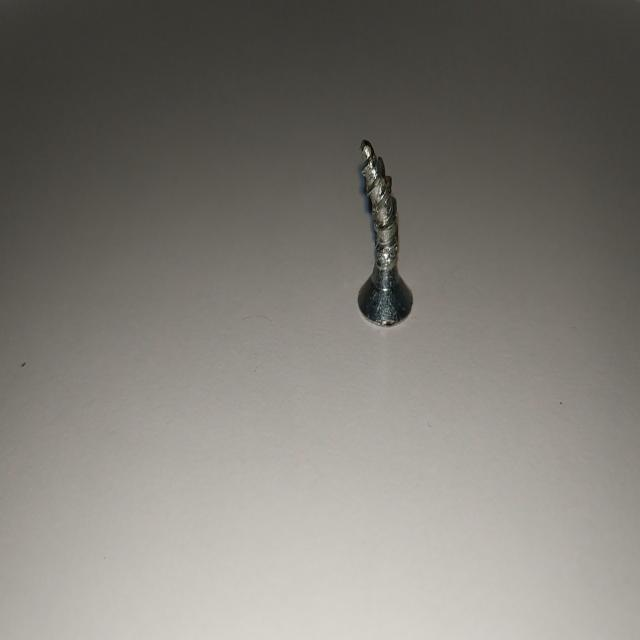Screw: (358, 139, 413, 325)
